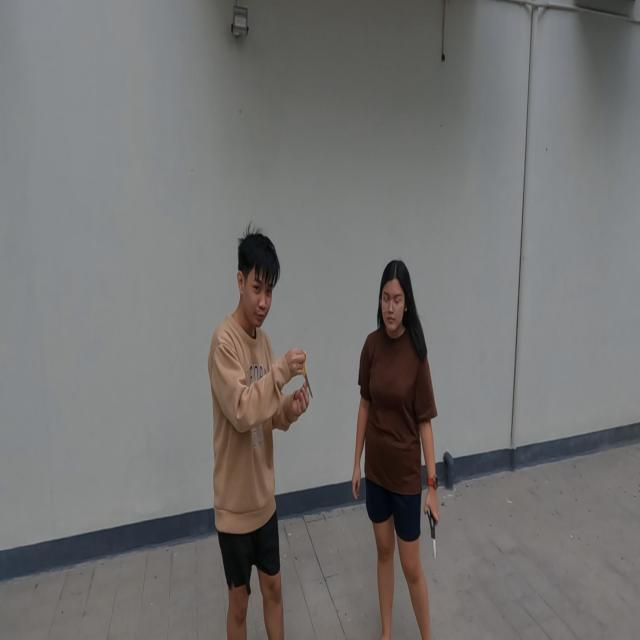scissor: (296, 351, 314, 400), (426, 504, 438, 560)
